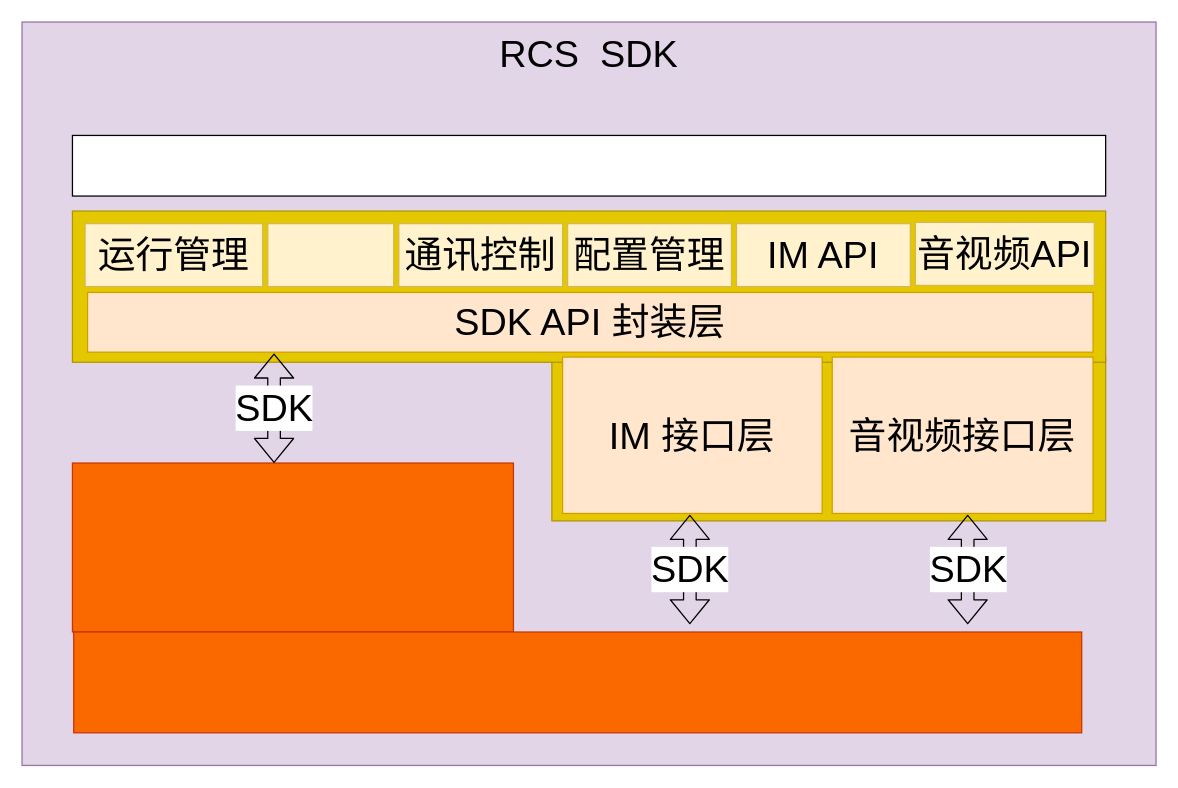
This 1178x788 diagram has some shape labels left out. The box of each missing label's shape, as (x1, y1, x2, y2) in pixels:
APP/WEB: (71, 134, 1106, 196)
RCS: (72, 631, 1082, 733)
Restfull API 接口层: (71, 462, 513, 632)
通讯录: (266, 222, 394, 287)
